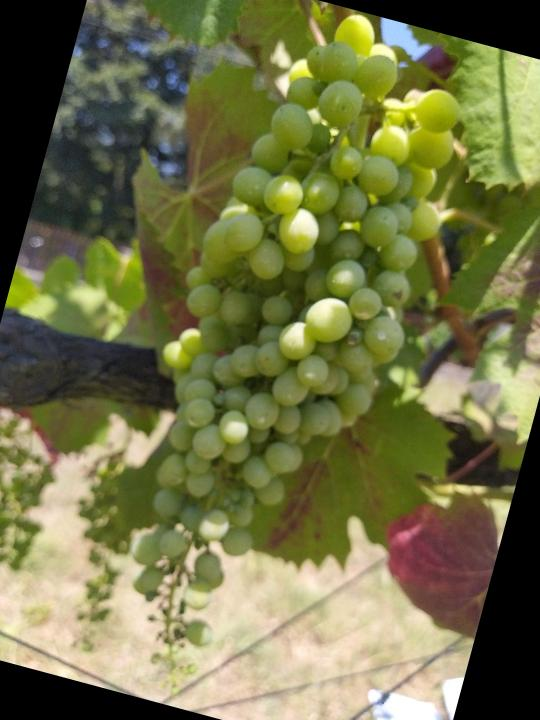grape: (74, 0, 490, 720)
